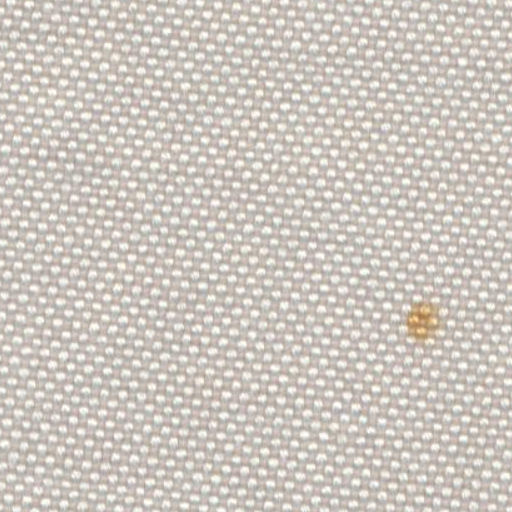WuZi: (396, 279, 456, 352)
